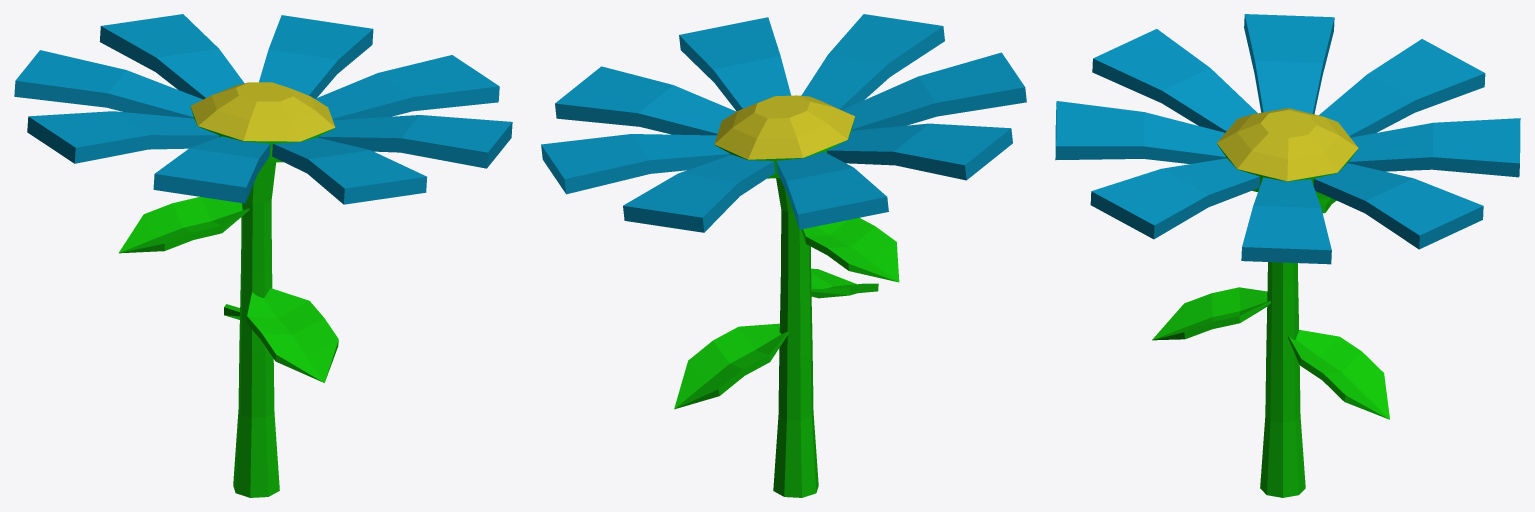
File: Bloem LB.fbx
3 views of the same model, side by side, from view 1: azimuth 30°, elevation 25°; view 2: azimuth 150°, elevation 25°; view 3: azimuth 270°, elevation 25° (orthographic). The views are drawn at different scales.
Visible parts, largest first — view 1: Cube.001; view 2: Cube.001; view 3: Cube.001.
Part boxes in pixels (<box>): Cube.001: <box>14,14,512,497</box>; Cube.001: <box>541,14,1026,497</box>; Cube.001: <box>1055,14,1520,497</box>.
Size of the model in its own units: 0.2248 by 0.2048 by 0.2261.
